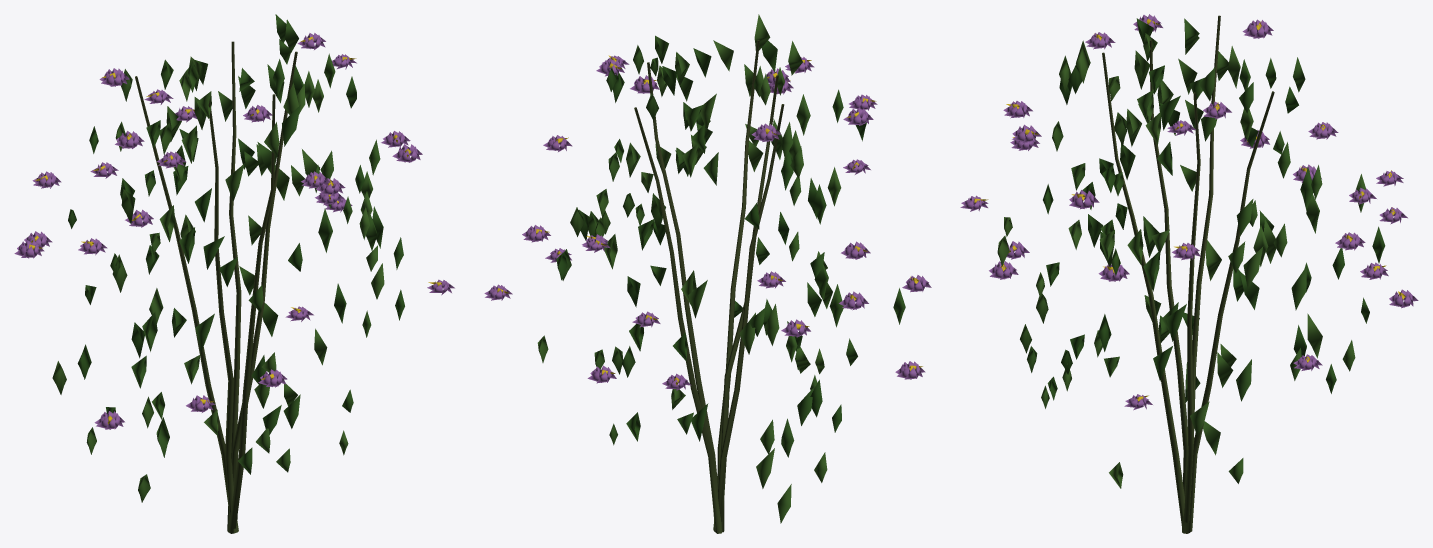
The model's file is Flower_Aster_2.glb.
3 renders of one model, left to right at view 1: azimuth 30°, elevation 25°; view 2: azimuth 150°, elevation 25°; view 3: azimuth 270°, elevation 25°, orthographic. The views are drawn at different scales.
Parts seen in each view (by area): view 1: Flower_Aster_2; view 2: Flower_Aster_2; view 3: Flower_Aster_2.
Boxes of the visible parts, bbox=[...] form: Flower_Aster_2: bbox=[14, 14, 454, 533]; Flower_Aster_2: bbox=[484, 14, 931, 533]; Flower_Aster_2: bbox=[960, 14, 1418, 533].
Size of the model in its own units: 0.9245 by 1.13 by 0.9421.
